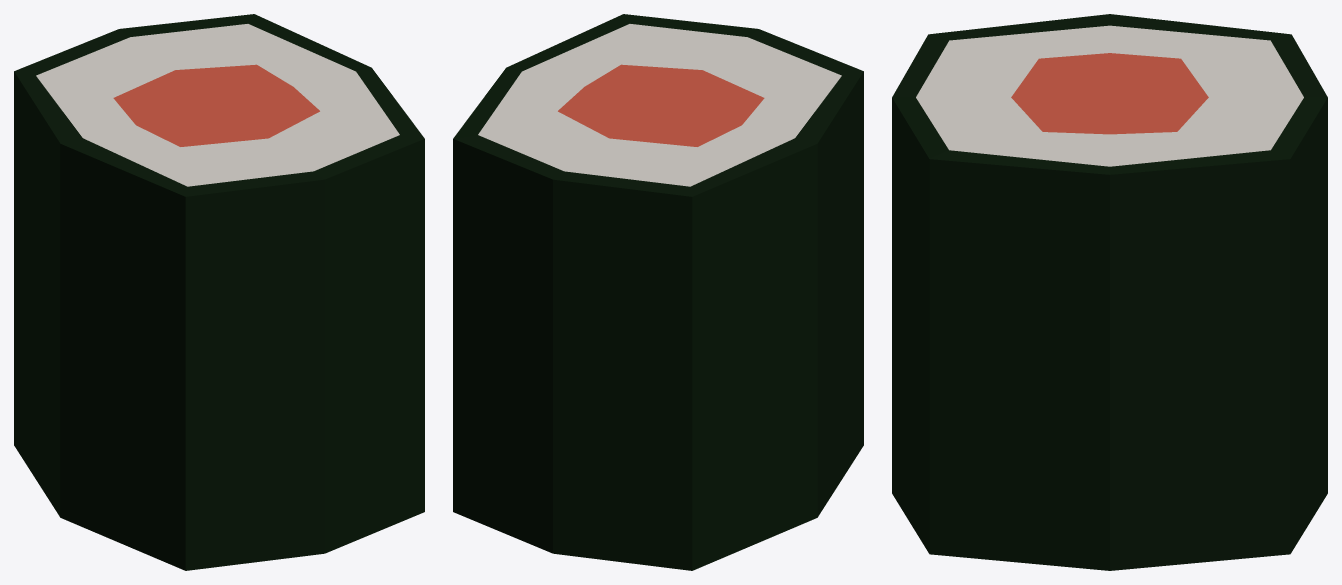
Rendered from hossomakiSalmon.fbx.
3 renders of one model, left to right at view 1: azimuth 30°, elevation 25°; view 2: azimuth 150°, elevation 25°; view 3: azimuth 270°, elevation 25°, orthographic. The views are drawn at different scales.
Parts seen in each view (by area): view 1: hossomakiSalmon; view 2: hossomakiSalmon; view 3: hossomakiSalmon.
Part boxes in pixels (box(x1,y1,x2,y2)): hossomakiSalmon: box(14, 14, 424, 570); hossomakiSalmon: box(453, 14, 863, 570); hossomakiSalmon: box(892, 14, 1327, 570).
Bounding box in the file's own units: 3.74 × 4.29 × 4.28.
Materials: 1 (1 with a texture image).
